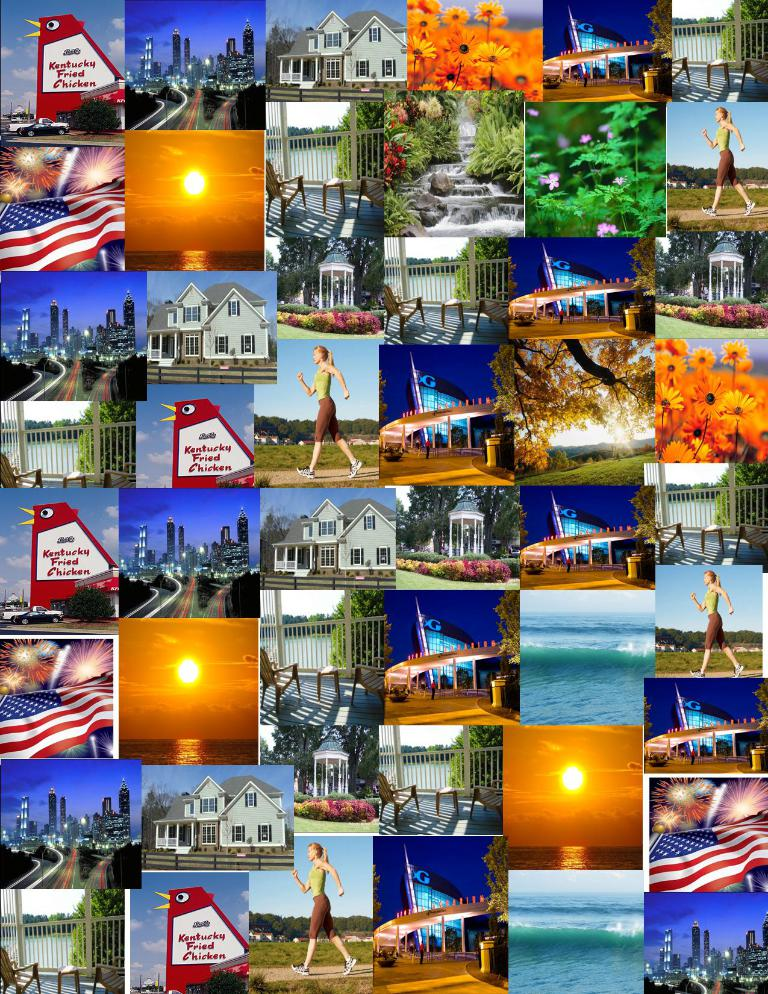Footwear: (339, 955, 360, 977), (346, 459, 363, 479), (288, 962, 313, 975), (739, 199, 757, 216), (698, 203, 721, 216), (730, 659, 747, 676), (297, 465, 316, 479), (688, 669, 706, 678)
